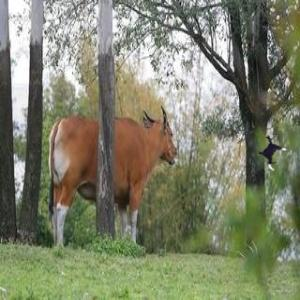drone: (254, 133, 294, 173)
